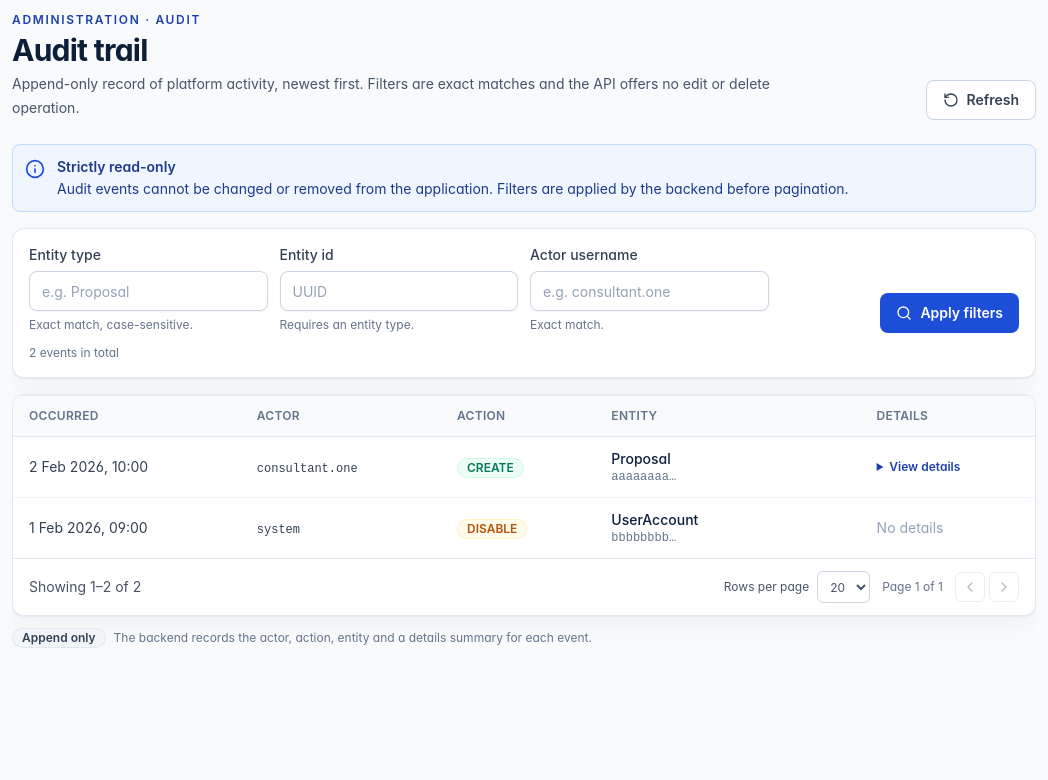
it: AuditTrailPage › lists newest-first events and expands event details
The width and height of the screenshot is (1048, 780).
Check: the heading "Audit trail" is shown, box [12,32,148,68]
Check: the text "consultant.one" is shown, box [257,462,358,476]
Click the heading "View details" at {"x": 925, "y": 466}, box [889,459,960,474]
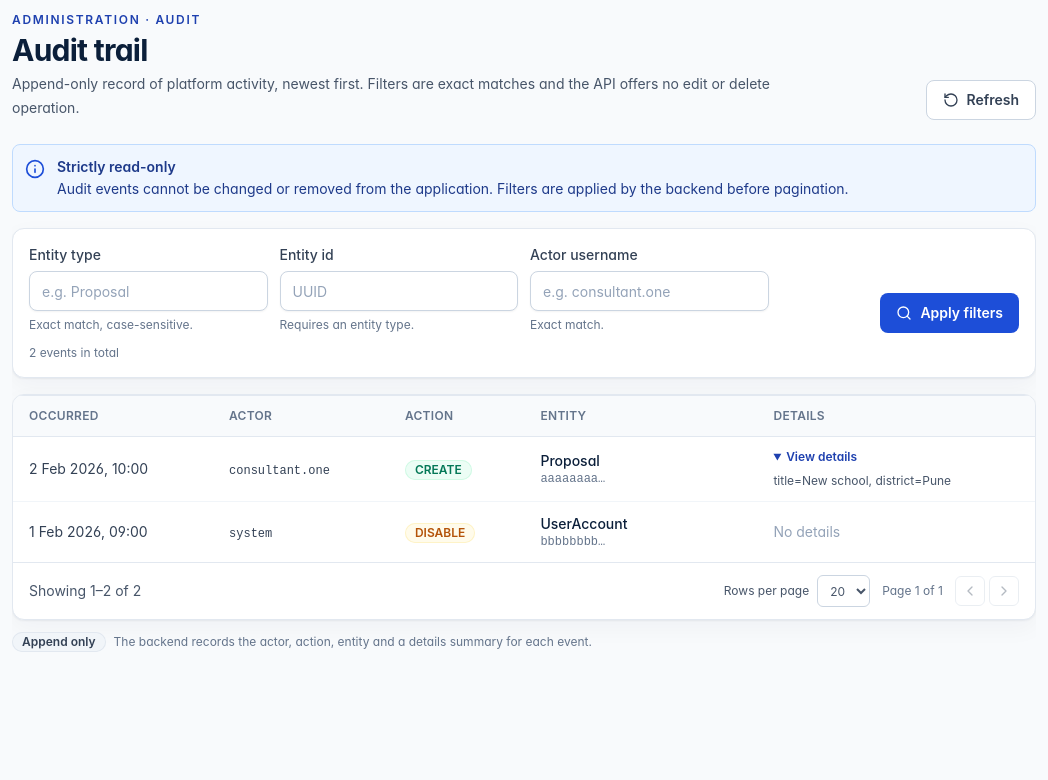
Check: the text "title=New school, district=Pune" is shown, box [773,473,951,488]
